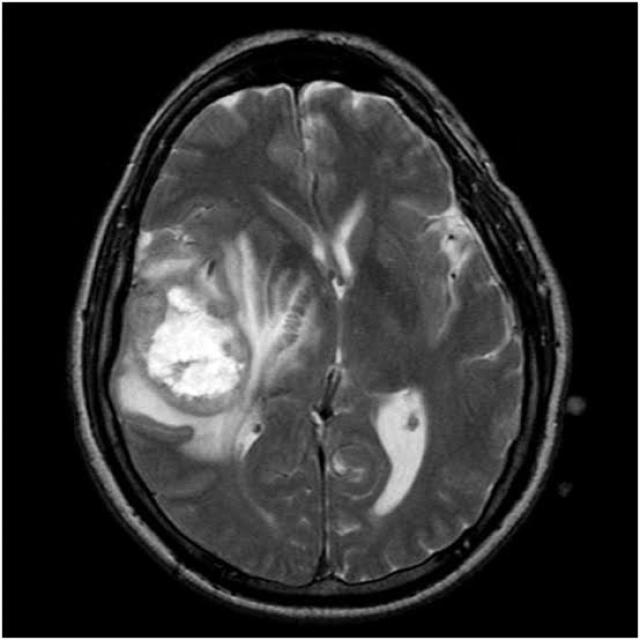tumor: (118, 232, 268, 464), (147, 298, 243, 412)
